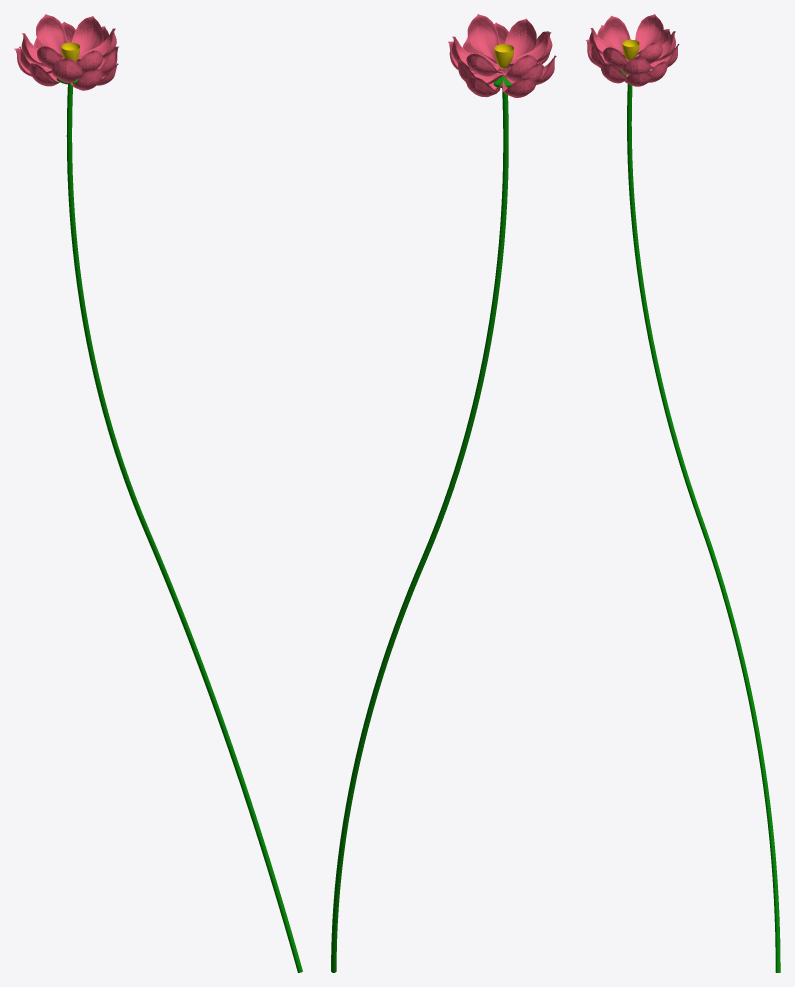
File: Lotus090.fbx
3 views of the same model, side by side, from view 1: azimuth 30°, elevation 25°; view 2: azimuth 150°, elevation 25°; view 3: azimuth 330°, elevation 25° (orthographic). The views are drawn at different scales.
Visible parts, largest first — view 1: pCylinder5, nurbsToPoly23, nurbsToPoly19; view 2: pCylinder5, nurbsToPoly22, nurbsToPoly18, nurbsToPoly10; view 3: pCylinder5, nurbsToPoly23, nurbsToPoly20.
Part boxes in pixels (left/top/right/bottom): pCylinder5: left=66, top=84, right=302, bottom=972; nurbsToPoly23: left=36, top=14, right=67, bottom=57; nurbsToPoly19: left=71, top=16, right=102, bottom=54; pCylinder5: left=331, top=88, right=508, bottom=972; nurbsToPoly22: left=467, top=14, right=499, bottom=64; nurbsToPoly18: left=501, top=18, right=536, bottom=68; nurbsToPoly10: left=465, top=76, right=501, bottom=97; pCylinder5: left=627, top=84, right=780, bottom=972; nurbsToPoly23: left=635, top=14, right=663, bottom=54; nurbsToPoly20: left=602, top=15, right=630, bottom=50.
Size of the model in its own units: 52.45 by 201 by 24.27.
